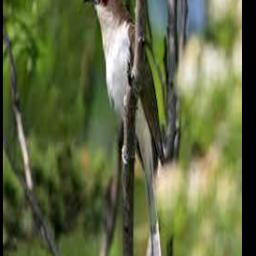Cuckoo: (82, 0, 166, 256)
